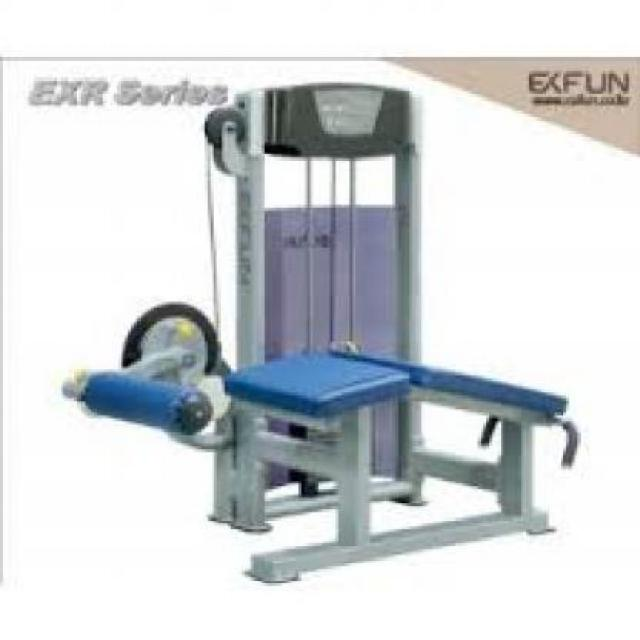reg curl machine: (53, 79, 584, 583)
